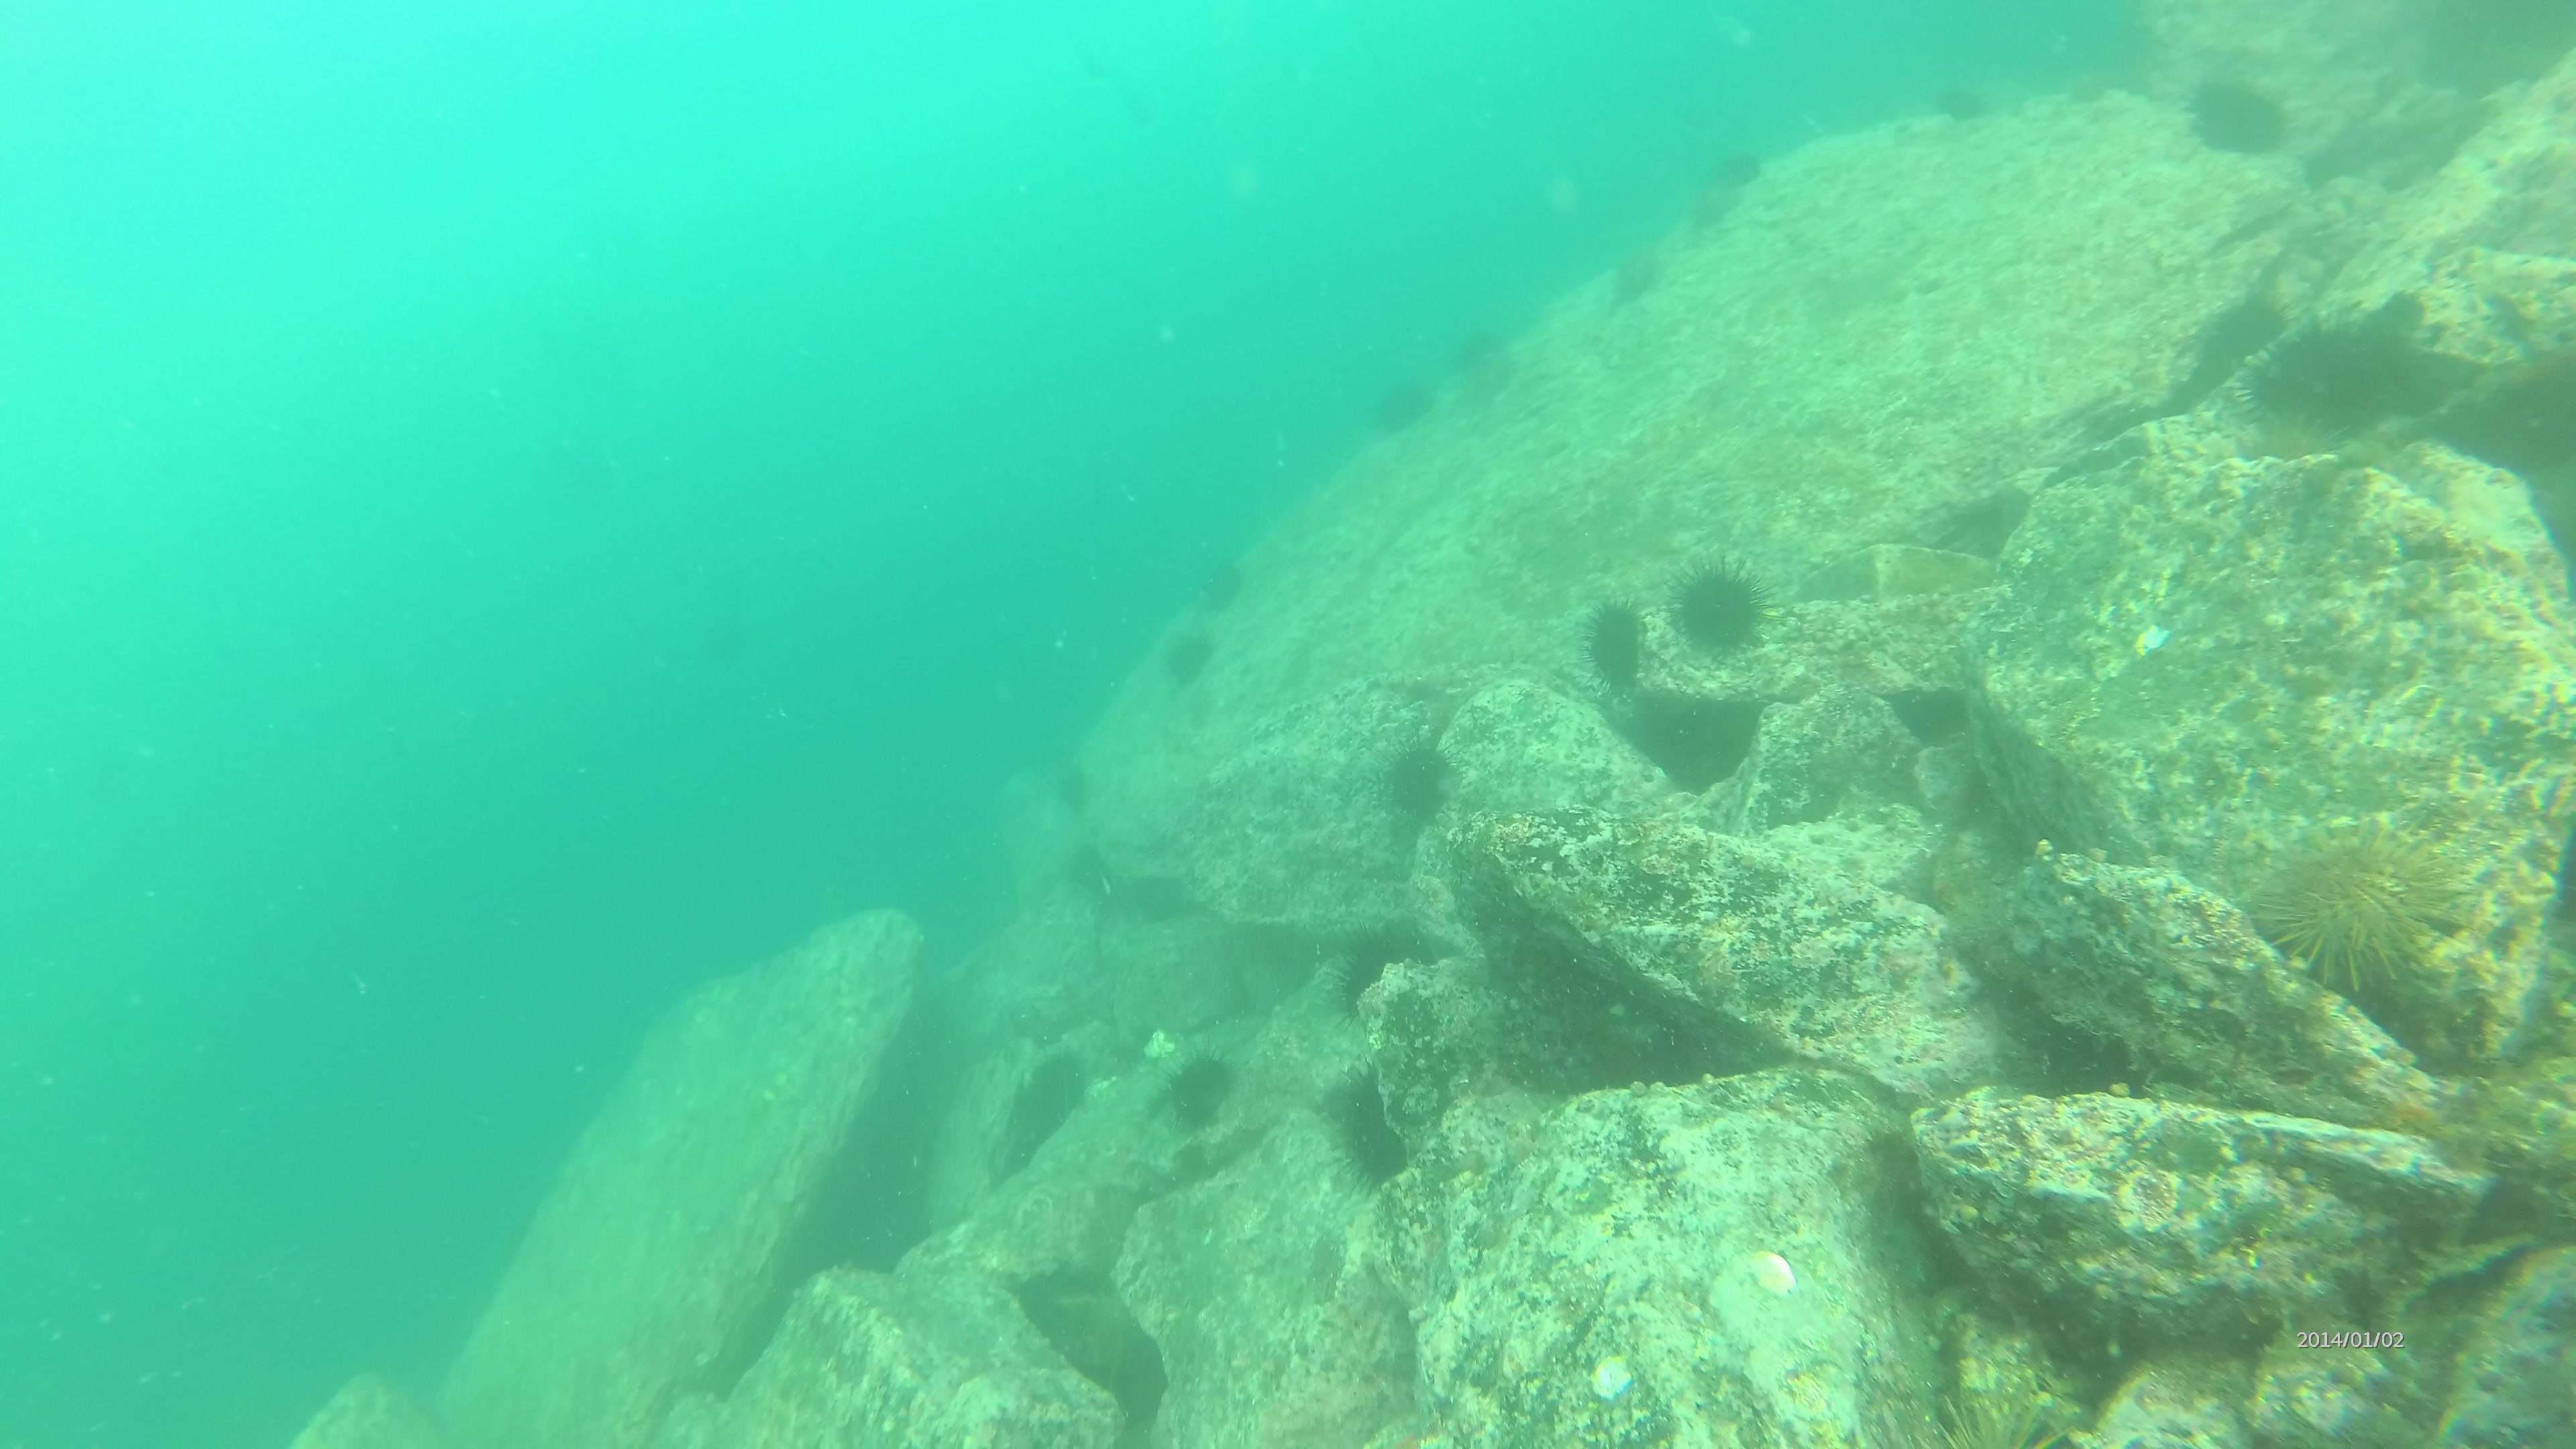echinus: (2250, 821, 2461, 994), (2238, 306, 2404, 444), (1663, 552, 1780, 658), (1327, 1060, 1424, 1182), (2190, 73, 2288, 157), (1161, 1053, 1244, 1134), (1376, 738, 1465, 814), (1580, 596, 1654, 686), (1610, 241, 1674, 304), (1375, 370, 1430, 435), (1684, 179, 1737, 234), (1707, 140, 1760, 191), (1164, 625, 1210, 681), (1196, 563, 1246, 610)
